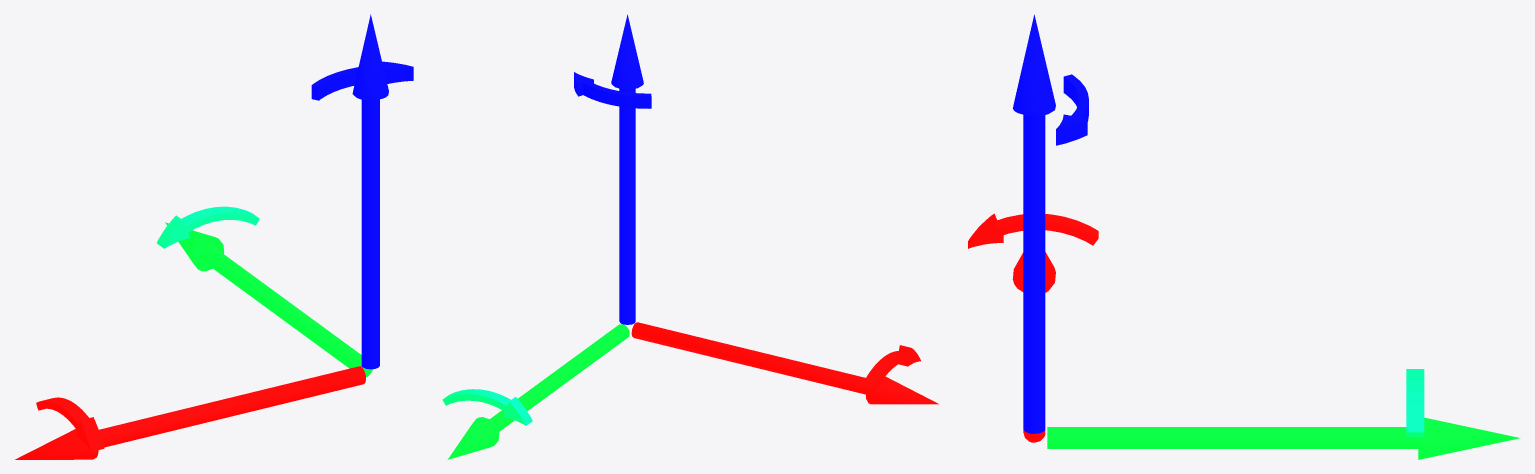
Rendered from Unity-axis_curve.fbx.
3 renders of one model, left to right at view 1: azimuth 30°, elevation 25°; view 2: azimuth 150°, elevation 25°; view 3: azimuth 270°, elevation 25°, orthographic. The views are drawn at different scales.
Parts seen in each view (by area): view 1: Unity-axis, GreenCurve, BlueCurve, RedCurve; view 2: Unity-axis, BlueCurve, GreenCurve, RedCurve; view 3: Unity-axis, RedCurve, BlueCurve, GreenCurve.
Boxes of the visible parts, x1,y1,x2,y2 form: Unity-axis: [15, 14, 388, 459]; GreenCurve: [157, 206, 259, 248]; BlueCurve: [311, 61, 413, 100]; RedCurve: [36, 397, 104, 451]; Unity-axis: [447, 14, 938, 459]; BlueCurve: [574, 72, 651, 108]; GreenCurve: [442, 389, 532, 425]; RedCurve: [861, 345, 920, 392]; Unity-axis: [1012, 14, 1520, 459]; RedCurve: [968, 213, 1098, 248]; BlueCurve: [1056, 74, 1088, 145]; GreenCurve: [1406, 369, 1424, 436].
Size of the model in its own units: 222 by 195 by 220.
